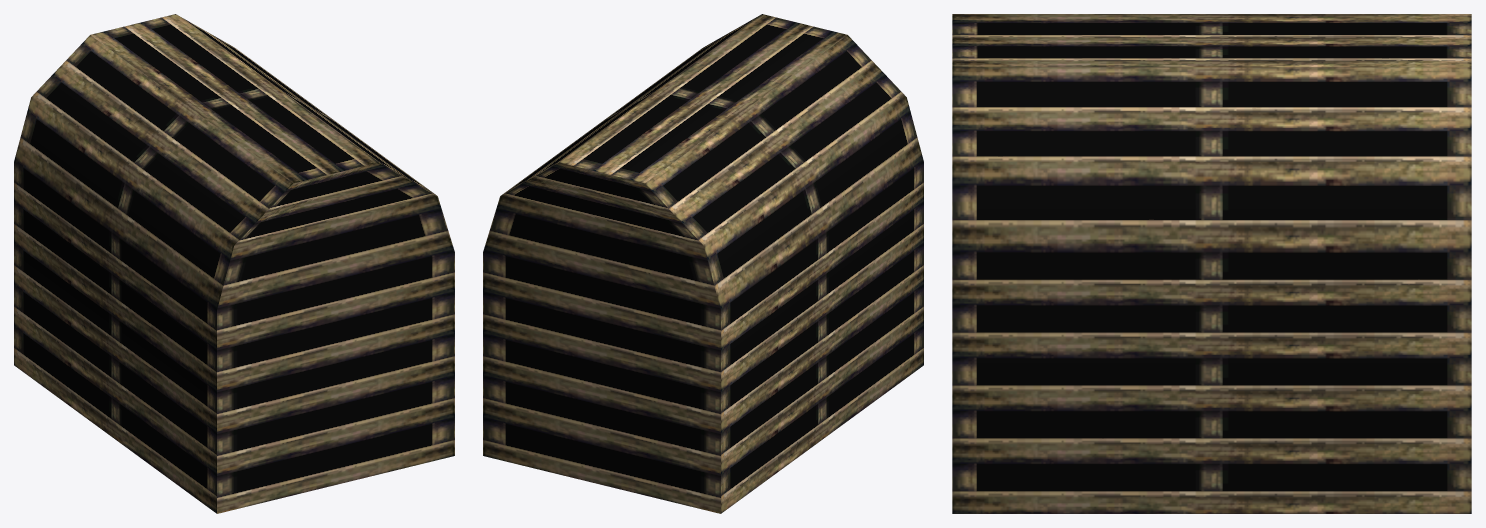
Rendered from INST_LT_LOBSTERBOX.fbx.
3 renders of one model, left to right at view 1: azimuth 30°, elevation 25°; view 2: azimuth 150°, elevation 25°; view 3: azimuth 270°, elevation 25°, orthographic. The views are drawn at different scales.
Visible parts, largest first — view 1: INST_LT_LOBSTERBOX; view 2: INST_LT_LOBSTERBOX; view 3: INST_LT_LOBSTERBOX.
Boxes of the visible parts, left/top/right/bottom form: INST_LT_LOBSTERBOX: left=14, top=14, right=454, bottom=513; INST_LT_LOBSTERBOX: left=483, top=14, right=923, bottom=513; INST_LT_LOBSTERBOX: left=952, top=14, right=1471, bottom=513.
Bounding box in the file's own units: 3188 × 3996 × 4714.
1 material, 1 textured.
